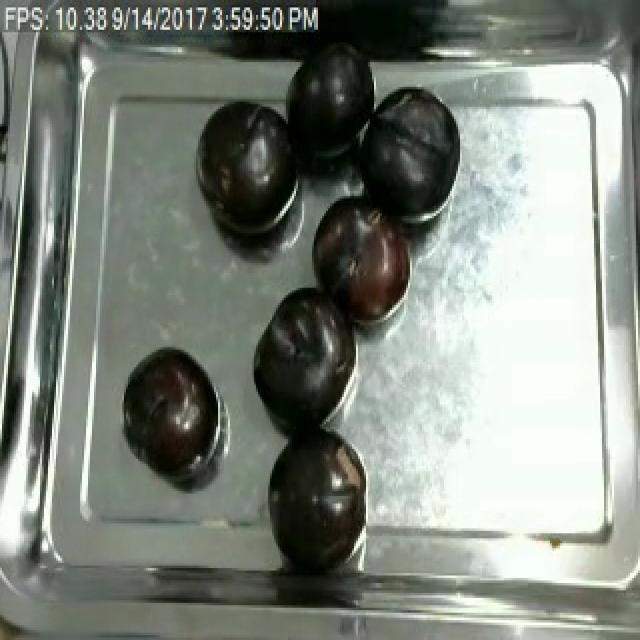Fruit: (184, 94, 308, 248), (348, 84, 466, 234), (306, 188, 420, 332), (262, 422, 370, 573), (246, 280, 354, 429), (120, 342, 220, 477), (280, 35, 376, 171)
